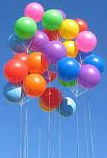Balloon: (56, 57, 79, 81), (3, 82, 27, 103), (4, 60, 26, 82), (79, 64, 99, 88), (75, 31, 97, 52), (23, 73, 44, 94), (14, 17, 35, 38), (57, 96, 77, 116), (27, 53, 46, 74), (43, 86, 61, 107), (42, 10, 61, 29), (60, 18, 78, 38), (46, 40, 65, 58), (24, 2, 42, 21)
